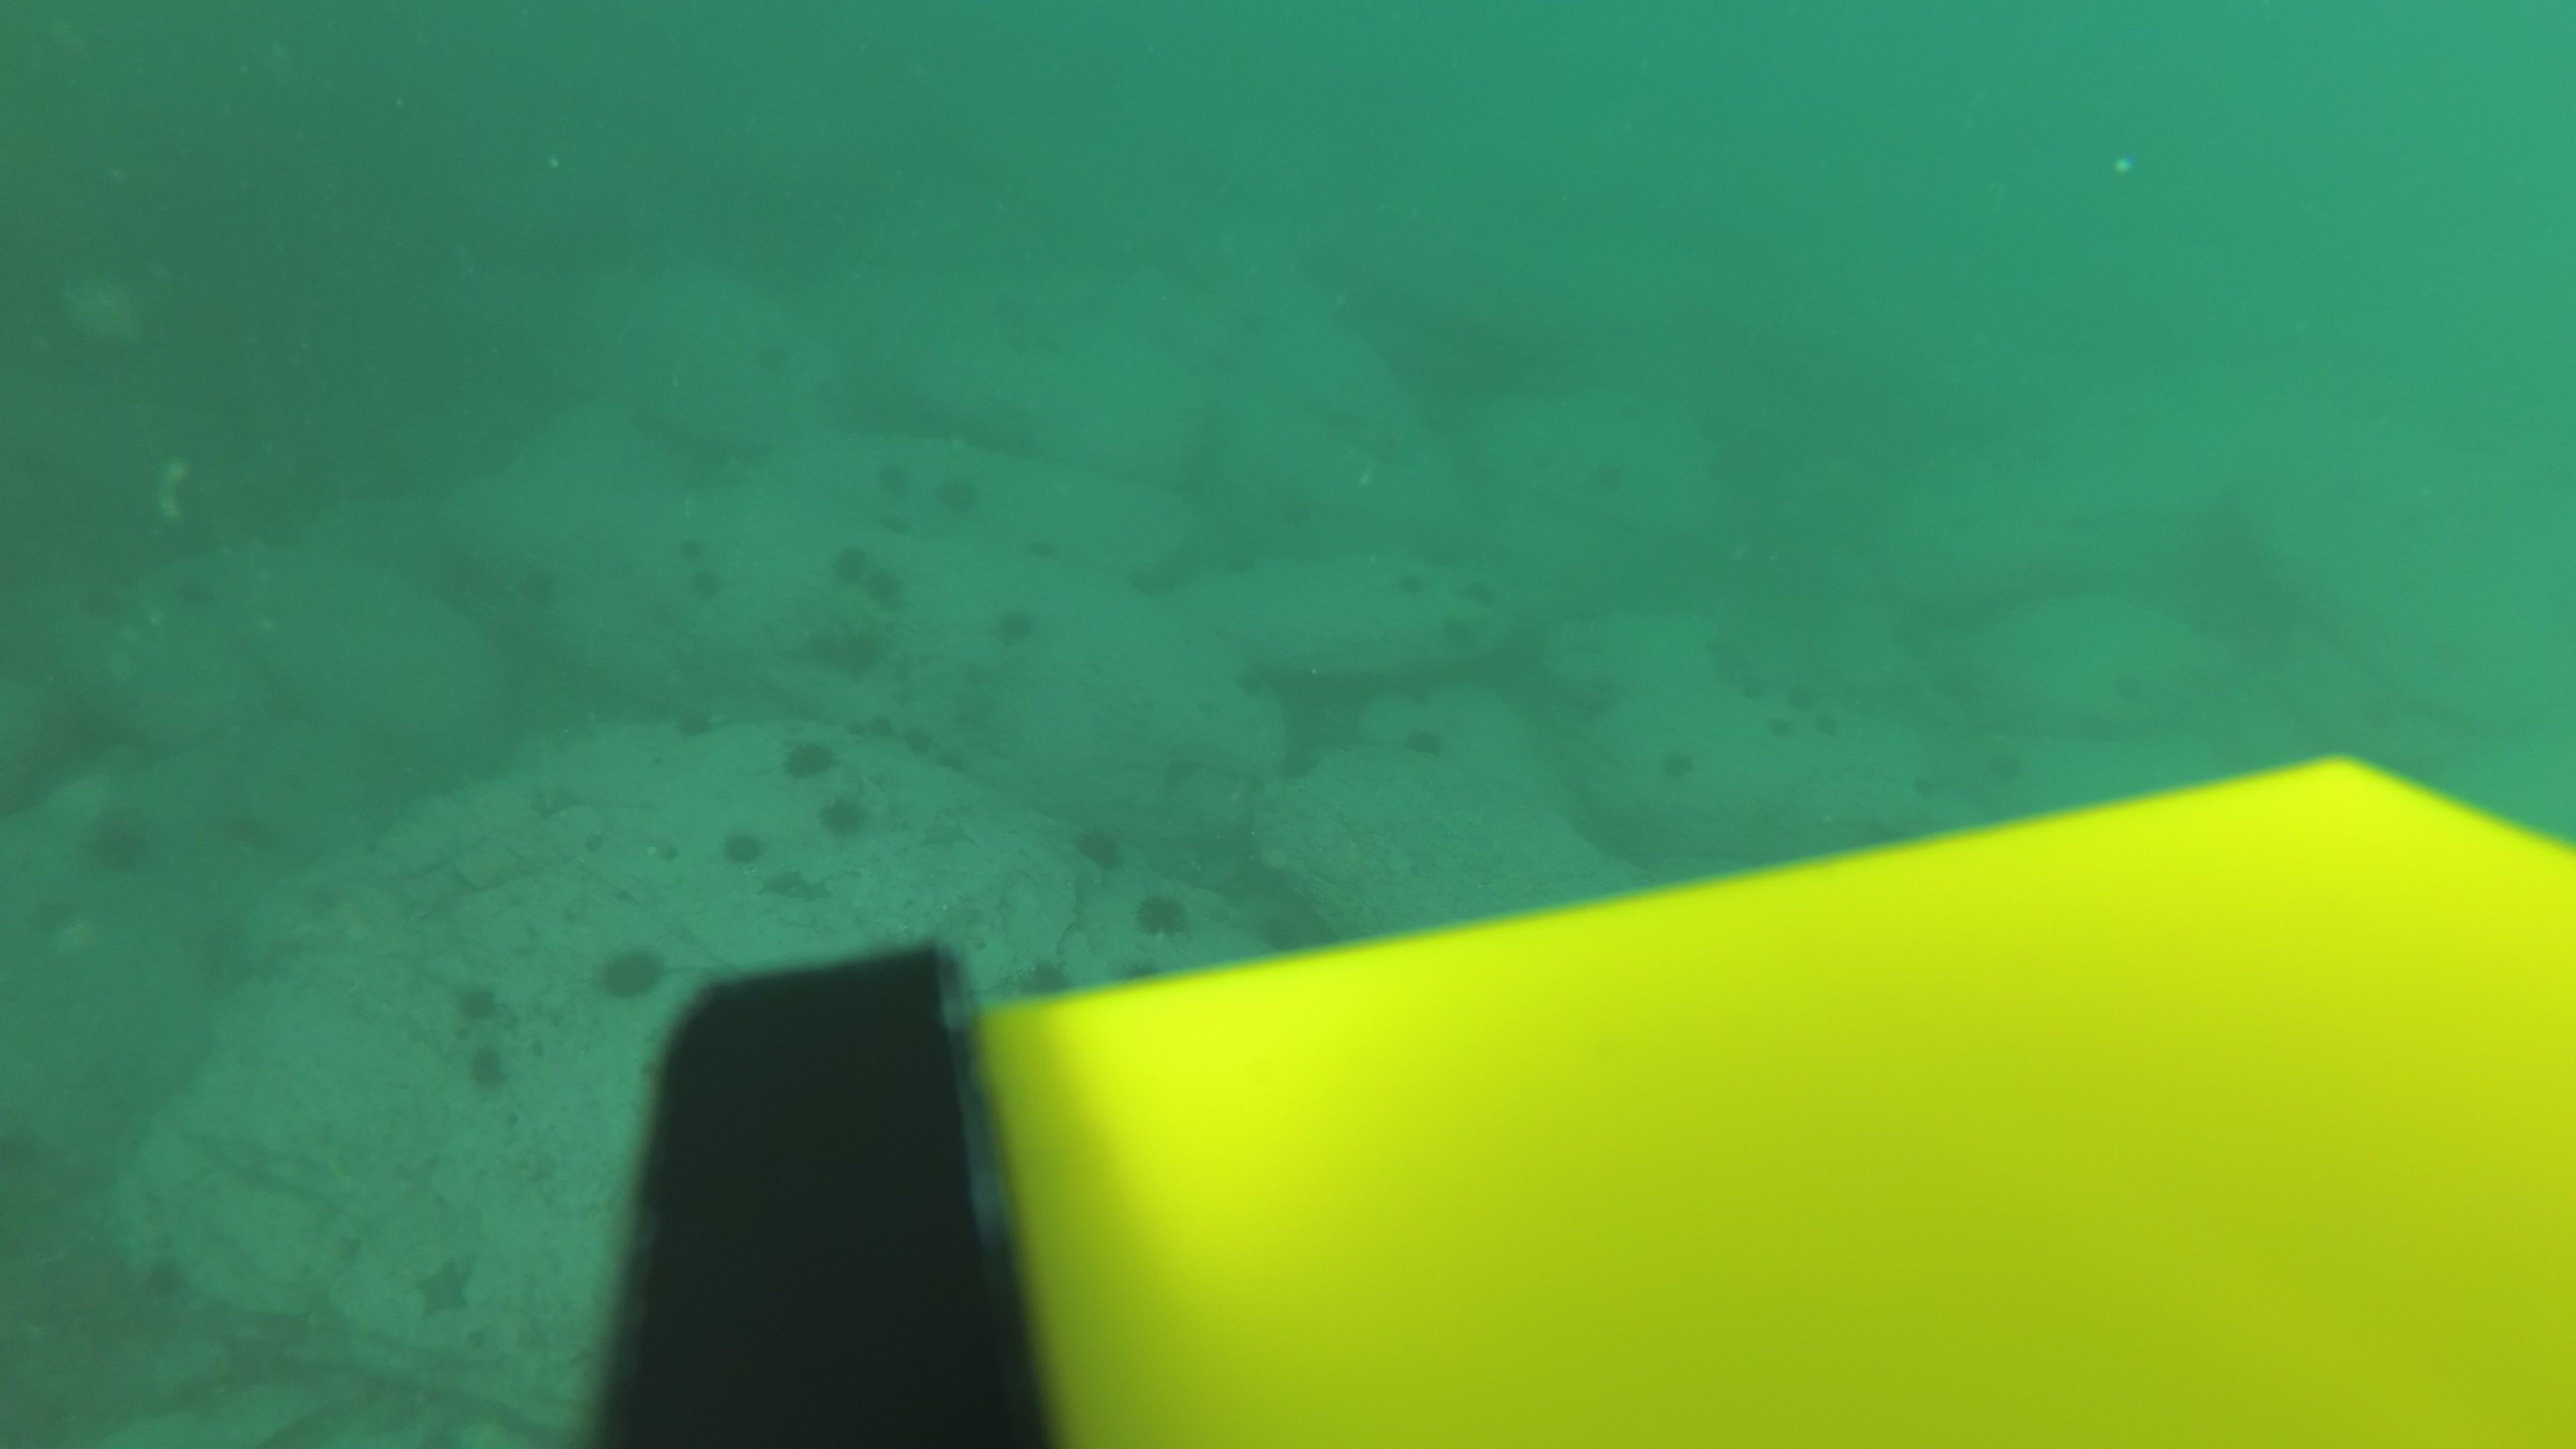echinus: (78, 800, 157, 876), (594, 939, 667, 1003), (131, 1251, 195, 1311), (824, 621, 886, 678), (1127, 548, 1191, 602), (1132, 886, 1191, 941), (660, 527, 713, 582), (740, 329, 793, 384), (1587, 453, 1640, 508), (1357, 416, 1410, 471), (1214, 536, 1267, 591), (2105, 653, 2158, 708), (1070, 819, 1123, 872), (925, 729, 978, 782), (867, 448, 920, 501), (1113, 943, 1166, 996), (1247, 911, 1300, 964), (1645, 738, 1698, 791), (1688, 625, 1741, 678), (1223, 662, 1276, 715), (982, 287, 1035, 340), (1898, 755, 1951, 809), (1921, 655, 1974, 708), (2086, 697, 2139, 750), (1982, 432, 2035, 485), (862, 561, 913, 616), (892, 706, 943, 761), (1433, 596, 1484, 651), (1378, 561, 1430, 616), (1270, 483, 1322, 538), (847, 692, 899, 745), (1449, 575, 1500, 628), (1279, 729, 1330, 782), (1021, 947, 1072, 1000), (1709, 441, 1760, 494), (1226, 297, 1277, 350), (1980, 738, 2031, 791), (782, 734, 835, 782), (464, 1042, 511, 1093), (936, 467, 984, 518), (819, 793, 869, 840), (453, 978, 502, 1026), (828, 540, 872, 591), (994, 602, 1040, 649), (1401, 720, 1449, 763), (671, 701, 718, 743), (722, 824, 764, 870), (1787, 678, 1828, 718), (518, 570, 556, 614), (683, 561, 720, 603), (1812, 704, 1851, 741), (1739, 669, 1778, 704), (1764, 708, 1801, 741)
starfish: (410, 1251, 479, 1320), (759, 860, 828, 904), (531, 782, 587, 821)
